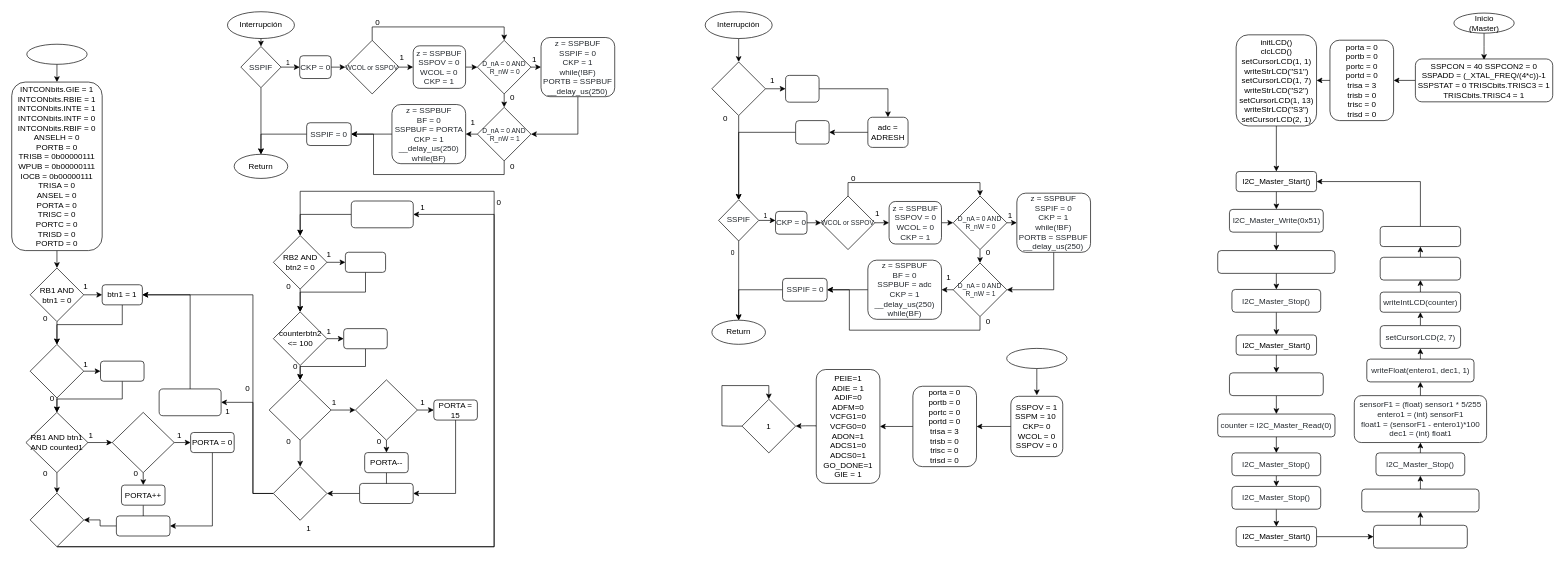
Image size: 1564x564. Some labels were removed from this diagram. The centre of each missing label's shape, as x and y in pixels:
"adc = I2C_Master_Read(0)" goes at (1276,261).
"ADIF" goes at (738,88).
"ADIF = 0" goes at (812,132).
"ADIF=0" goes at (802,88).
"btn2 = 1" goes at (365,262).
"counted1 = 1" goes at (143,525).
"counted2 = 1" goes at (386,493).
"counterbtn1 += btn1" goes at (122,370).
"counterbtn1 <= 100" goes at (56,371).
"counterbtn1 = 0 btn1 = 0 counted1 = 0" goes at (382,214).
"counterbtn2 += btn2" goes at (365,338).
"counterbtn2 = 0 btn2 = 0 counted2 = 0" goes at (189,402).
"I2C_Master_Write(0x01)" goes at (1420,536).
"I2C_Master_Write(0x61)" goes at (1276,384).
"Inicio (Slave 2)" goes at (1036,358).
"Inicio (Slave 3)" goes at (56,54).
"PORTA == 0" goes at (386,409).
"PORTA == 15" goes at (143,442).
"RB1 == 0" goes at (56,519).
"RB2 == 0" goes at (300,493).
"RB2 AND btn2 AND counted2" goes at (299,409).
"setCursorLCD(2, 10)" goes at (1420,268).
"time = I2C_Master_Read(0)" goes at (1420,500).
"writeIntLCD(time)" goes at (1420,236).
